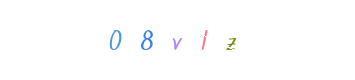0: (92, 0, 172, 80)
8: (111, 0, 191, 80)
L: (173, 0, 253, 80)
V: (137, 0, 217, 80)
Z: (191, 0, 271, 80)
